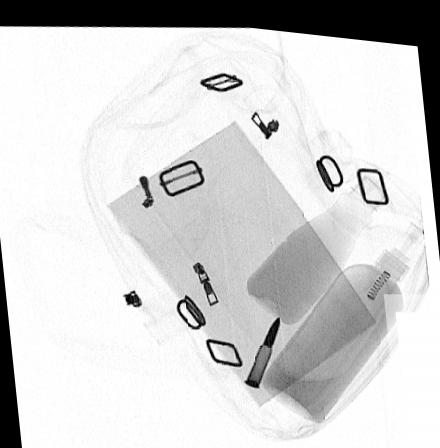Bullet: (243, 308, 280, 383)
